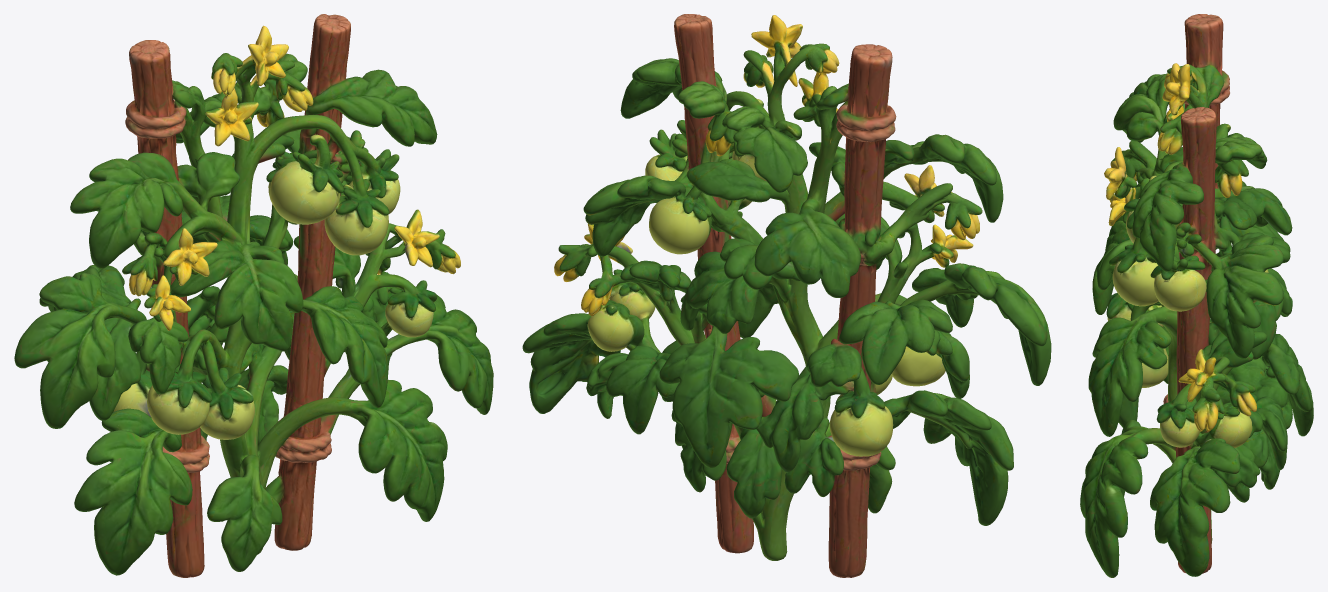
The model's file is tomato-growing.glb.
The picture shows the model from 3 angles, left to right: view 1: azimuth 30°, elevation 25°; view 2: azimuth 150°, elevation 25°; view 3: azimuth 270°, elevation 25°; orthographic projection. The views are drawn at different scales.
Size of the model in its own units: 1.85 by 1.9 by 0.8222.
Materials: 1 (1 with a texture image).
